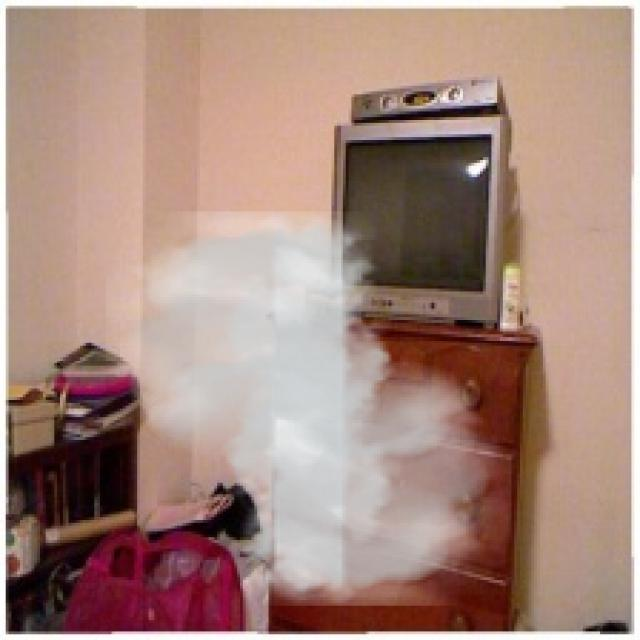smoke: (106, 211, 511, 606)
